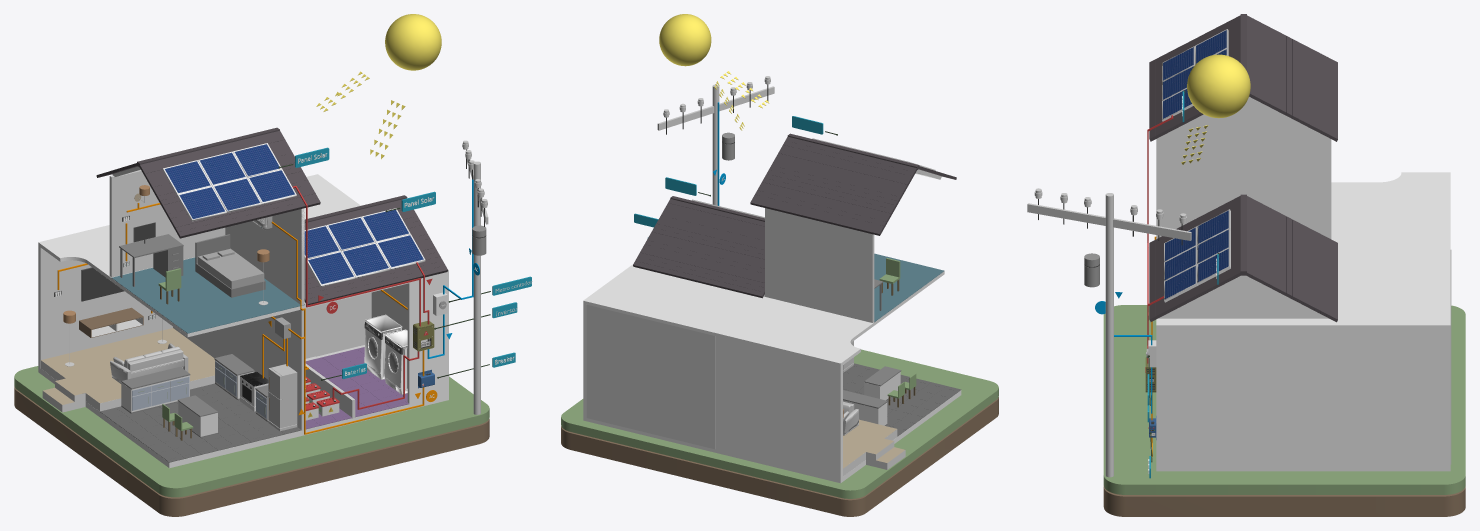
The model's file is solar_house_calidad.glb.
3 renders of one model, left to right at view 1: azimuth 30°, elevation 25°; view 2: azimuth 150°, elevation 25°; view 3: azimuth 270°, elevation 25°, orthographic. The views are drawn at different scales.
Visible parts, largest first — view 1: Cube_1_4_2, Cube_13_4_1, Cube_1_3_2_2.001, Cube_42_4_1, Cube_9_5_1, Cube_1_4_1, Cube_11_8_1, Cube_2_8_1, Cube_7_2_2, Cube_14_11_1, Cube_2_9_1, Cube_13_8_1 (+11 smaller); view 2: Cube_1_4_1, Cube_1_4_2, Cube_42_4_1, Cube_13_4_1, Cube_9_5_1, Cube_11_8_1, Cube_8_10_1, Cube_2_8_1, Cube_1_1, Cube_7_2_2, Cube_13_7_1, Cube_6_1 (+2 smaller); view 3: Cube_1_4_1, Cube_42_4_1, Cube_13_4_1, Cube_9_5_1, Cube_1_3_2_2.001, Cube_1_1, Cube_8_10_1, Cube_2_9_1, Cube_29_7_1, Cube_1_4_2, Cylinder_7_2_1.
Part boxes in pixels (x1,y1,x2,y2): Cube_1_4_2: (40,166,409,430); Cube_13_4_1: (14,268,489,497); Cube_1_3_2_2.001: (165,144,423,284); Cube_42_4_1: (96,127,447,305); Cube_9_5_1: (14,307,489,516); Cube_1_4_1: (38,174,448,468); Cube_11_8_1: (100,383,301,462); Cube_2_8_1: (112,257,304,333); Cube_7_2_2: (41,193,214,404); Cube_14_11_1: (119,234,268,437); Cube_2_9_1: (55,143,447,420); Cube_13_8_1: (110,343,297,431); Cube_1_4_1: (583,264,961,483); Cube_1_4_2: (586,169,941,476); Cube_42_4_1: (633,133,956,298); Cube_13_4_1: (561,258,998,498); Cube_9_5_1: (561,397,998,516); Cube_11_8_1: (843,363,961,436); Cube_8_10_1: (659,14,769,130); Cube_2_8_1: (874,253,944,322); Cube_1_1: (657,76,774,205); Cube_7_2_2: (843,419,904,468); Cube_13_7_1: (843,372,900,425); Cube_6_1: (634,116,823,238); Cube_1_4_1: (1156,96,1450,471); Cube_42_4_1: (1149,14,1337,322); Cube_13_4_1: (1103,305,1465,494); Cube_9_5_1: (1103,485,1465,516); Cube_1_3_2_2.001: (1163,30,1228,299); Cube_1_1: (1027,188,1191,477); Cube_8_10_1: (1181,54,1250,164); Cube_2_9_1: (1148,29,1230,435); Cube_29_7_1: (1145,115,1173,428); Cube_1_4_2: (1331,139,1451,464); Cylinder_7_2_1: (1084,253,1099,287).
Bounding box in the file's own units: 348 × 343 × 308.
70 materials, 4 textured.
